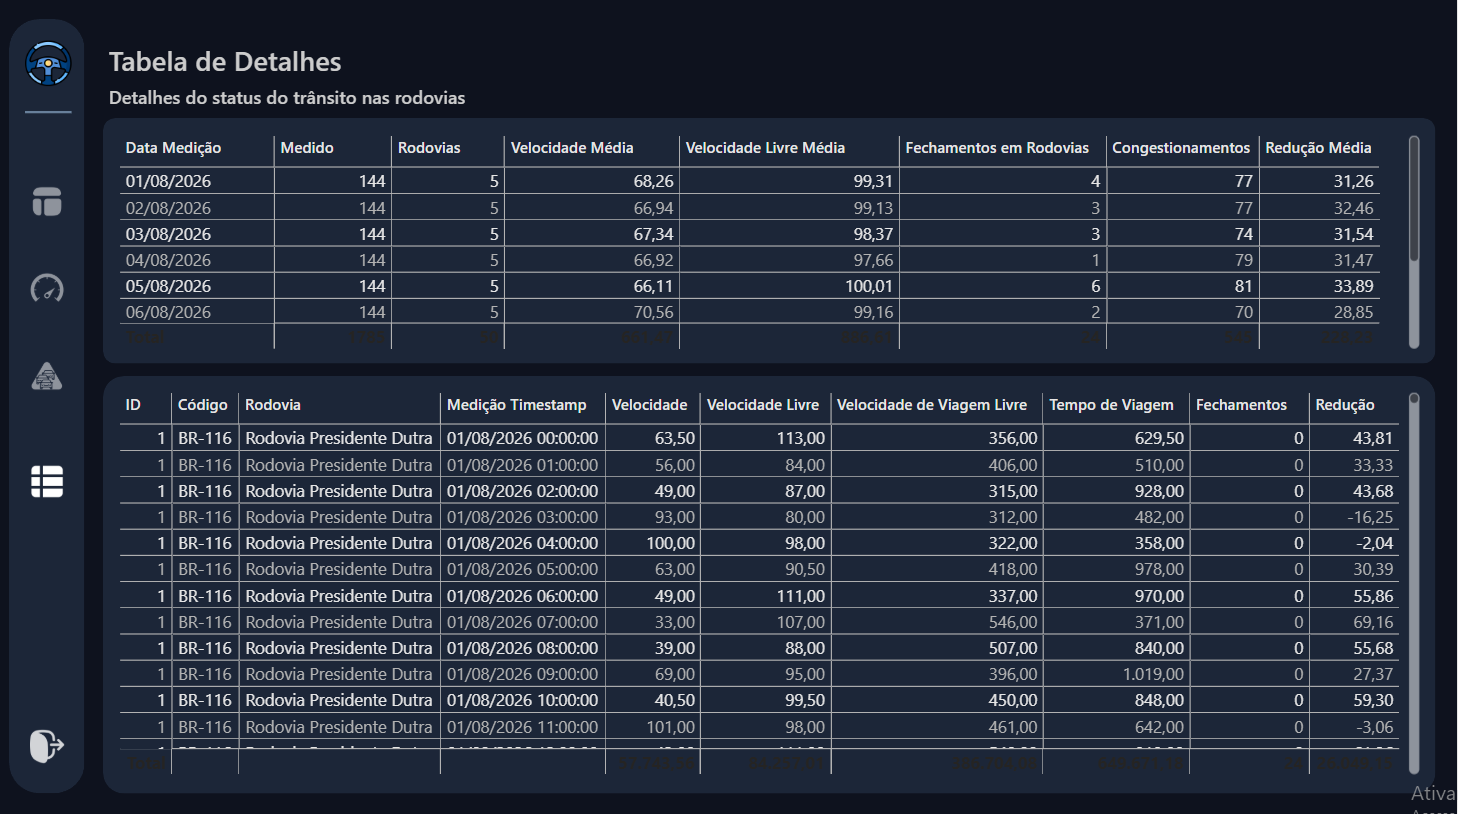

What the dashboard file says about the page in this screenshot:
{"tool":"powerbi","page":{"name":"Tabela","canvas":[1280,720],"ordinal":3},"visuals":[{"type":"shape","box":[91.7,107.8,1170,215.7],"z":0},{"type":"shape","box":[9.2,21.5,66.5,679.9],"z":1000},{"type":"image","box":[22.5,35.8,40.9,48.1],"z":2000},{"type":"image","box":[27.6,163.6,29.6,35.8],"z":3000},{"type":"image","box":[27.6,239.2,29.6,35.8],"z":4000},{"type":"image","box":[27.6,315.9,29.6,35.8],"z":5000},{"type":"image","box":[27.6,408.9,29.6,35.8],"z":6000},{"type":"image","box":[27.6,642,29.6,35.8],"z":7000},{"type":"shape","box":[22.5,83.8,40.9,38.8],"z":8000},{"type":"textbox","box":[91.7,35.6,377.4,46.4],"z":9000},{"type":"textbox","box":[91.7,73.3,492.8,46.4],"z":10000},{"type":"tableEx","fields":{"Values":["gold_traffic_summary.measurement_date","Sum(gold_traffic_summary.total_measurements)","Sum(gold_traffic_summary.roads_monitored)","Sum(gold_traffic_summary.avg_speed)","Sum(gold_traffic_summary.avg_free_flow_speed)","Sum(gold_traffic_summary.closure_events)","Sum(gold_traffic_summary.congested_measurements)","Sum(gold_traffic_summary.avg_speed_reduction)"]},"box":[100.3,118.6,1151.7,197.3],"z":11000},{"type":"actionButton","box":[0,0,100,40],"z":12000},{"type":"shape","box":[91.7,334.3,1170,366.6],"z":12001},{"type":"tableEx","fields":{"Values":["gold_traffic.road_id","gold_traffic.road_code","gold_traffic.road_name","gold_traffic.measurement_hour","Sum(gold_traffic.avg_current_speed)","Sum(gold_traffic.avg_free_flow_speed)","Sum(gold_traffic.avg_free_flow_travel_time)","Sum(gold_traffic.avg_travel_time)","Sum(gold_traffic.closure_events)","Sum(gold_traffic.speed_reduction_percentage)"]},"box":[100.3,344,1151.7,345.1],"z":12002},{"type":"actionButton","box":[8.6,320.3,66.9,39.9],"z":12003},{"type":"actionButton","box":[9.7,239.4,66.9,39.9],"z":12004},{"type":"actionButton","box":[9.7,163.9,66.9,39.9],"z":12005}]}

Visuals, with their boxes on the page's 1280x720 design canvas (x1, y1, x2, y2). These are canvas units, not pixel positions in the 1458x814 screenshot, which may show the page scaled, cropped or inside an application window:
shape: {"x1": 92, "y1": 108, "x2": 1262, "y2": 324}
shape: {"x1": 9, "y1": 22, "x2": 76, "y2": 701}
image: {"x1": 22, "y1": 36, "x2": 63, "y2": 84}
image: {"x1": 28, "y1": 164, "x2": 57, "y2": 199}
image: {"x1": 28, "y1": 239, "x2": 57, "y2": 275}
image: {"x1": 28, "y1": 316, "x2": 57, "y2": 352}
image: {"x1": 28, "y1": 409, "x2": 57, "y2": 445}
image: {"x1": 28, "y1": 642, "x2": 57, "y2": 678}
shape: {"x1": 22, "y1": 84, "x2": 63, "y2": 123}
textbox: {"x1": 92, "y1": 36, "x2": 469, "y2": 82}
textbox: {"x1": 92, "y1": 73, "x2": 584, "y2": 120}
tableEx - gold_traffic_summary.measurement_date x Sum(gold_traffic_summary.total_measurements): {"x1": 100, "y1": 119, "x2": 1252, "y2": 316}
actionButton: {"x1": 0, "y1": 0, "x2": 100, "y2": 40}
shape: {"x1": 92, "y1": 334, "x2": 1262, "y2": 701}
tableEx - gold_traffic.road_id x gold_traffic.road_code: {"x1": 100, "y1": 344, "x2": 1252, "y2": 689}
actionButton: {"x1": 9, "y1": 320, "x2": 76, "y2": 360}
actionButton: {"x1": 10, "y1": 239, "x2": 77, "y2": 279}
actionButton: {"x1": 10, "y1": 164, "x2": 77, "y2": 204}
